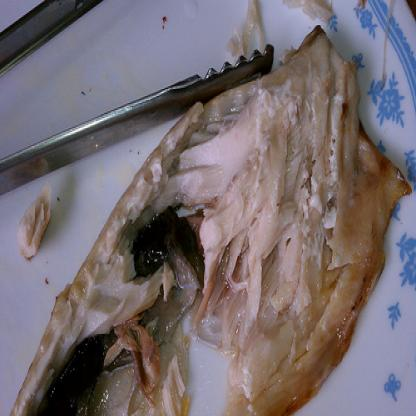Peixe: (18, 15, 394, 416)
